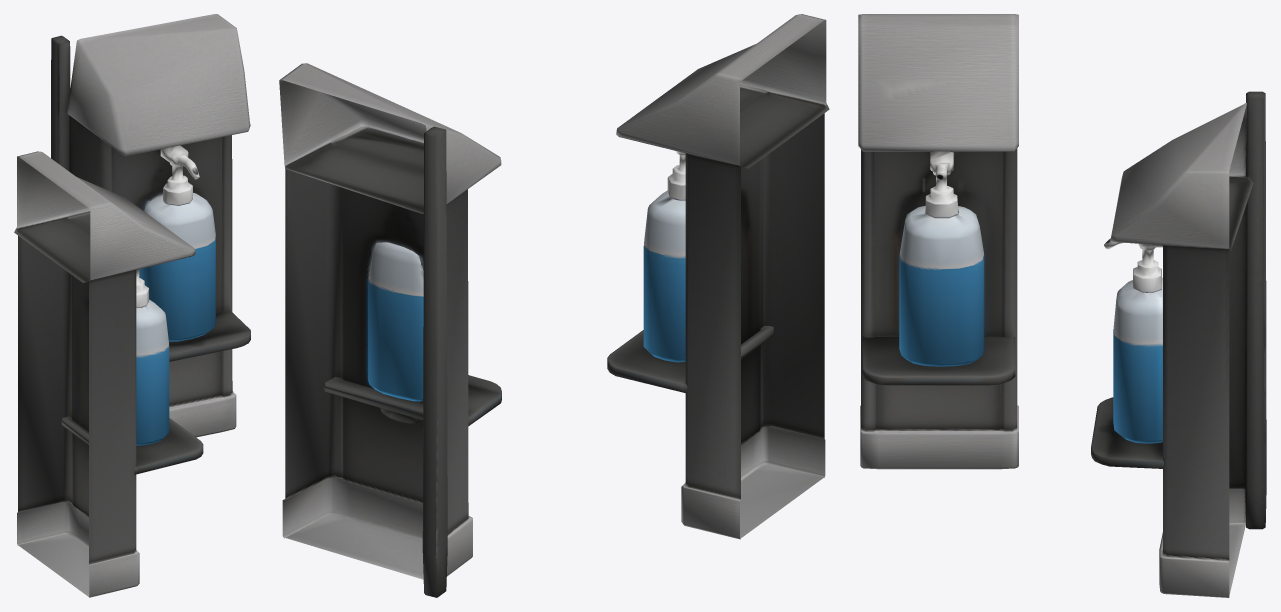
Rendered from PPE_B_HandSanitizer.fbx.
The picture shows the model from 3 angles, left to right: view 1: azimuth 30°, elevation 25°; view 2: azimuth 150°, elevation 25°; view 3: azimuth 270°, elevation 25°; orthographic projection. The views are drawn at different scales.
Visible parts, largest first — view 1: meshes[0]; view 2: meshes[0]; view 3: meshes[0].
Part boxes in pixels (<box>): meshes[0]: <box>14,14,250,597</box>; meshes[0]: <box>279,14,829,597</box>; meshes[0]: <box>858,14,1266,597</box>.
Size of the model in its own units: 0.7988 by 0.998 by 0.8535.
